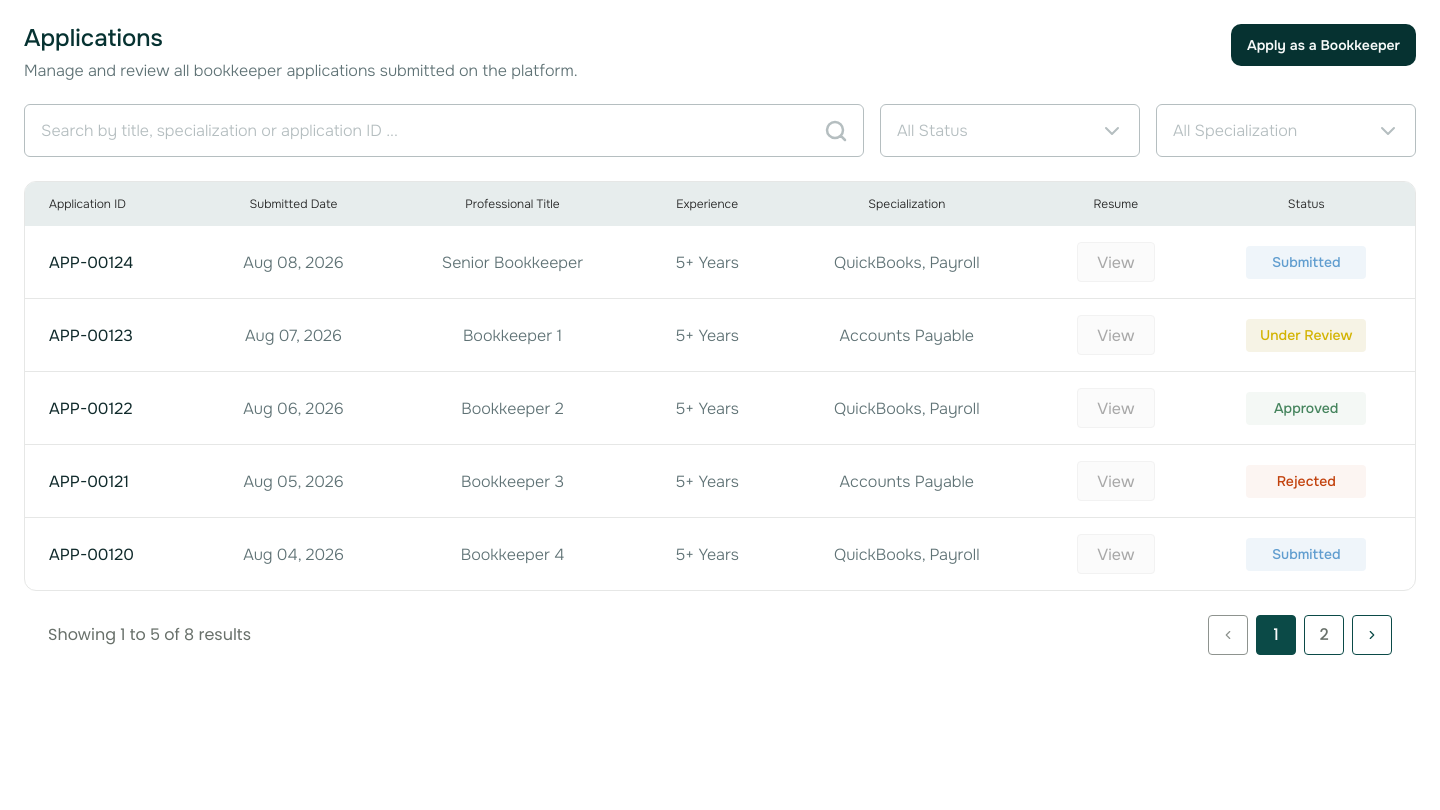
Test case: narrows results with search, status and specialization filters
The width and height of the screenshot is (1440, 810).
Type "senior" into the search field named "Search applications". click: [444, 131]
box: [24,104,864,157]
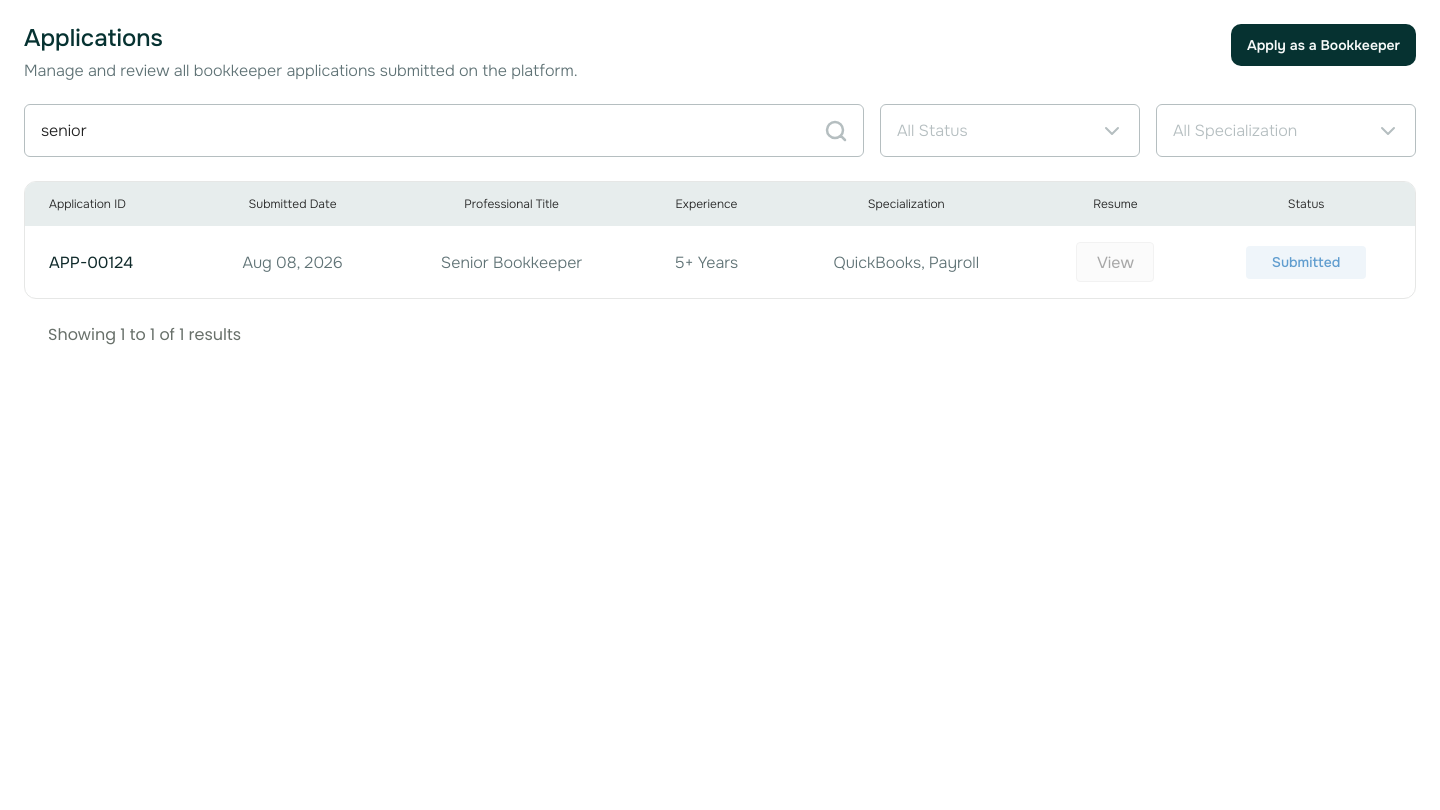
Expected: the text "Senior Bookkeeper" is shown, [389,226,634,298]
Clear the search field named "Search applications". click: [444, 131]
box: [24,104,864,157]
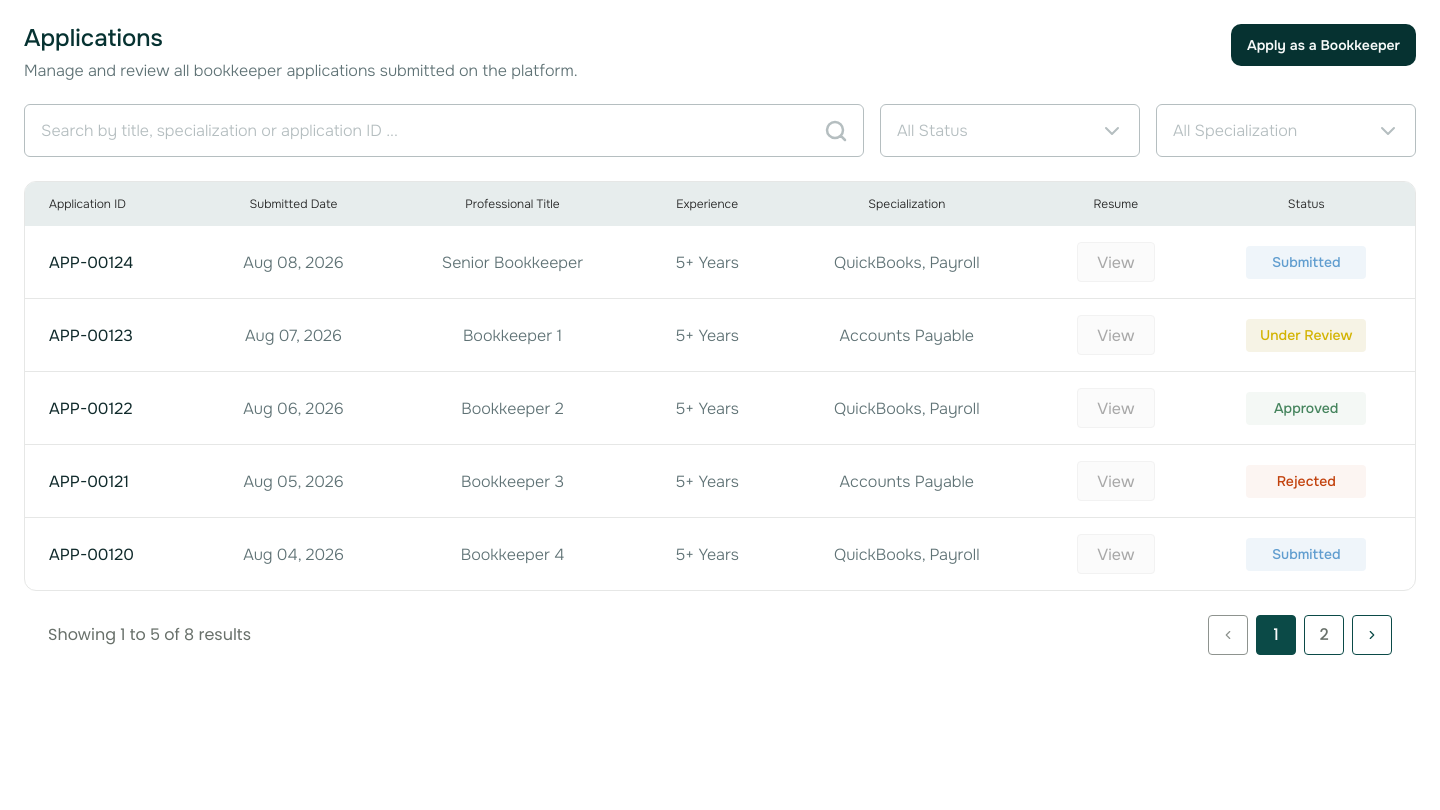
Select "Approved" in the 1st dropdown named "Filter by status". click: [1010, 131]
box: [880,104,1140,157]
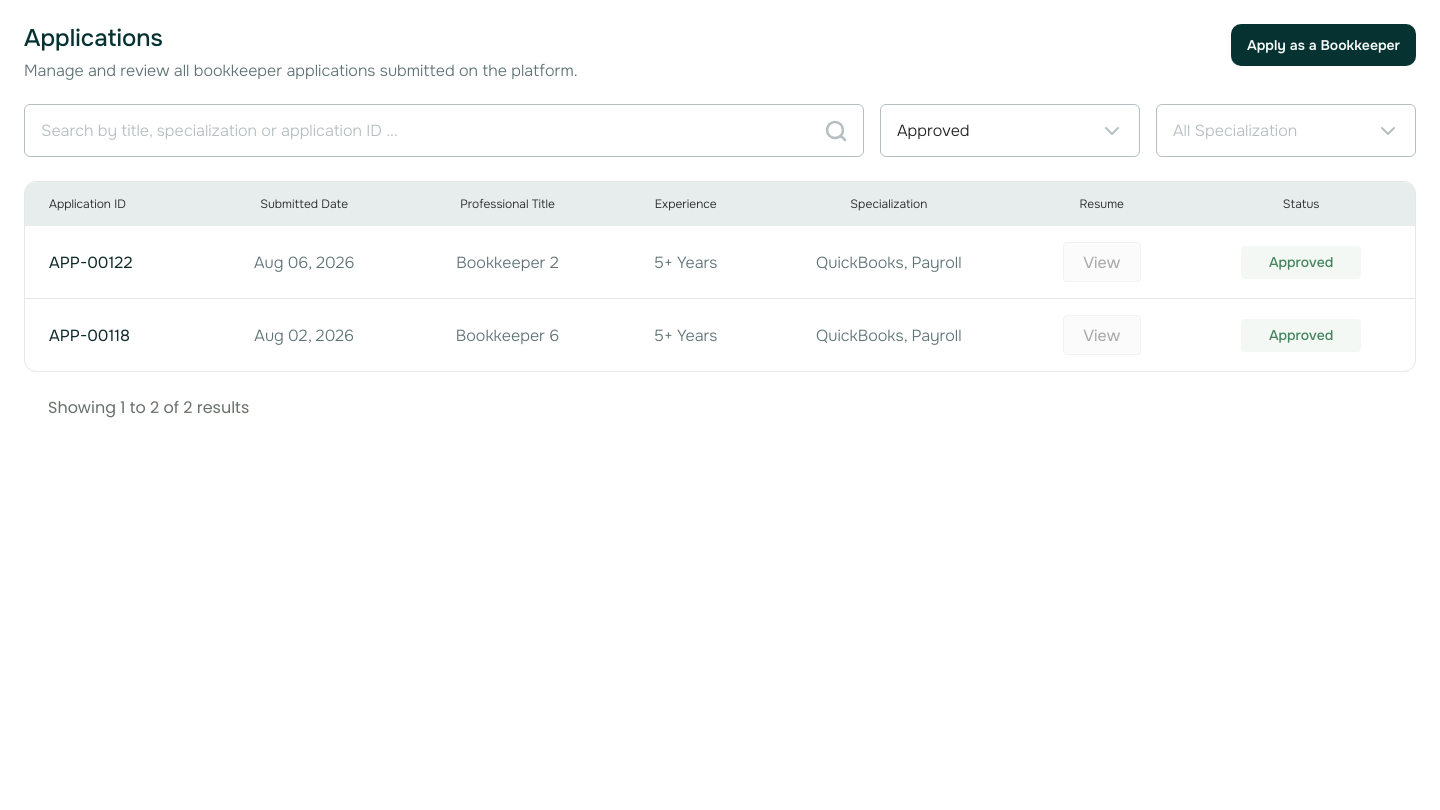
Now the text "Approved" in the row of "APP-00122" is shown, box [1269,253,1333,271]
Now the text "Approved" in the row of "APP-00118" is shown, box [1269,326,1333,344]
Select "All Status" in the 1st dropdown named "Filter by status". click: [1010, 131]
box: [880,104,1140,157]
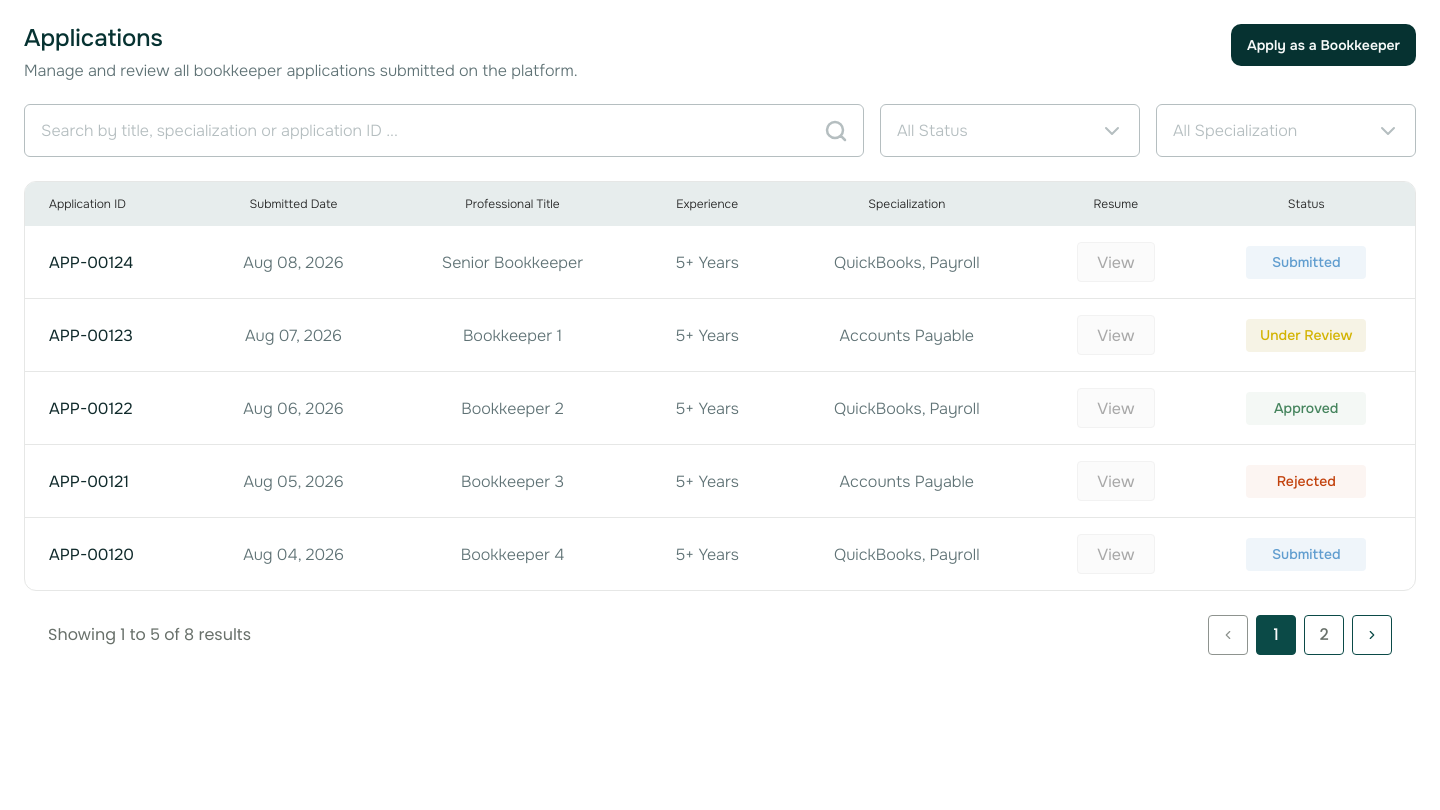
Select "Accounts Payable" in the 2nd dropdown named "Filter by specialization". click: [1286, 131]
box: [1156,104,1416,157]
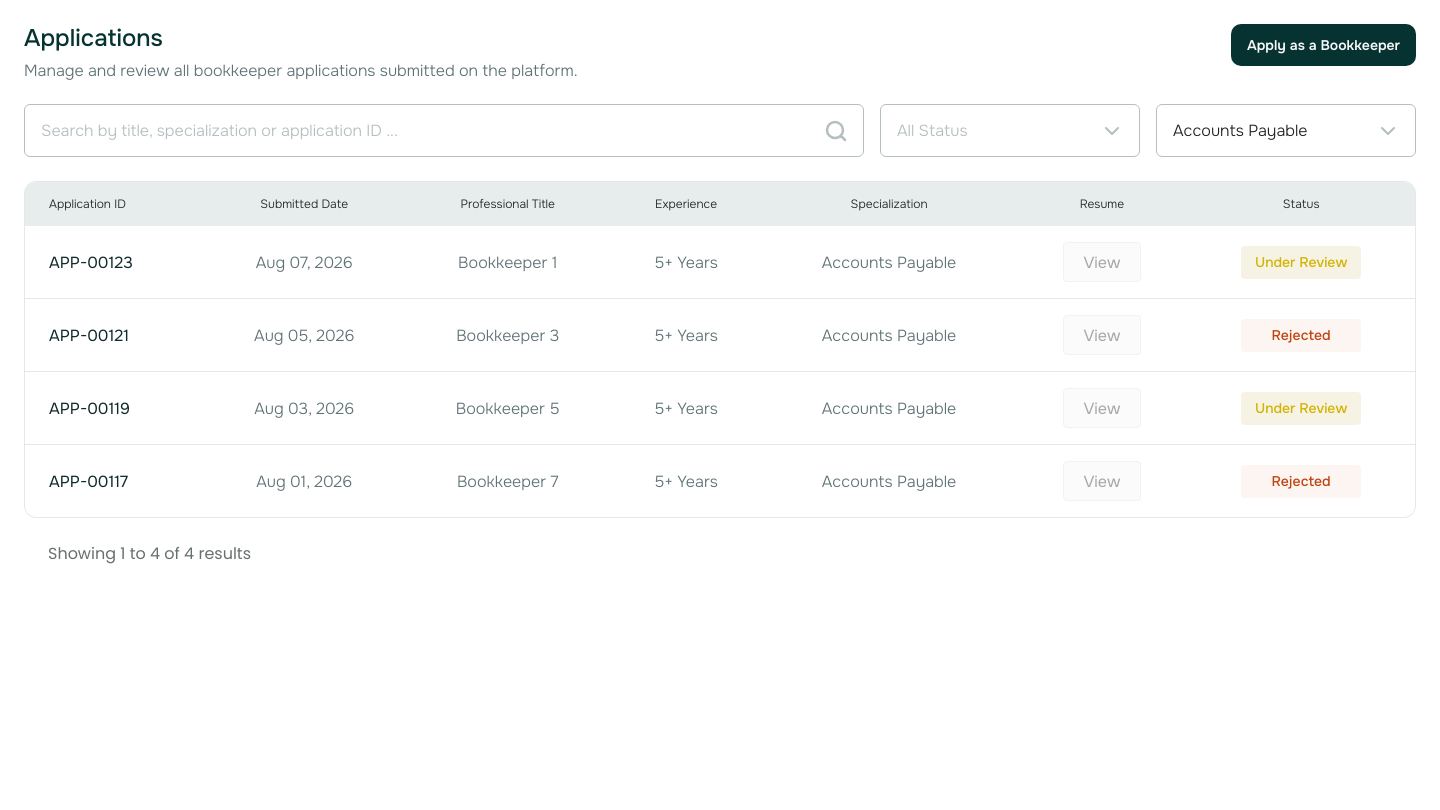
Now the text "Showing 1 to 4 of 4 results" is shown, box [48,542,251,566]
